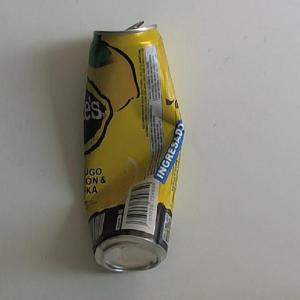defect: (0, 0, 300, 300)
